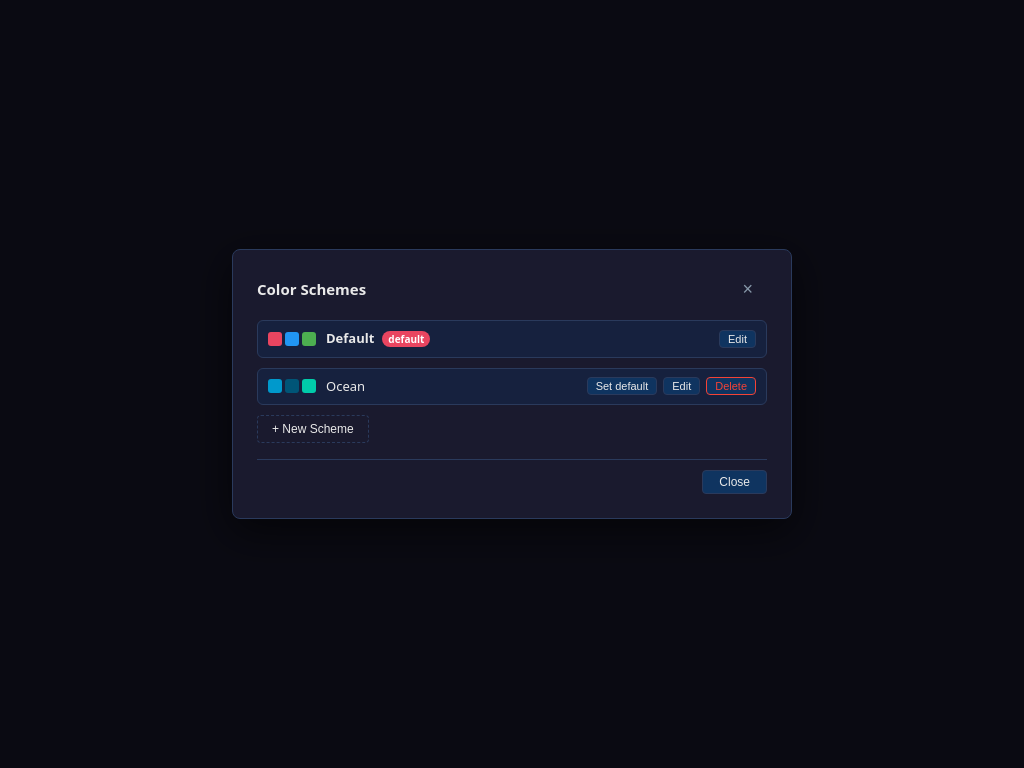
ColorSchemeManager › shows error banner when delete fails
expect the text "Ocean" is shown: met, box x1=326 y1=376 x2=365 y2=394
Click the button "Delete" at (731, 386), box x1=706 y1=377 x2=756 y2=395
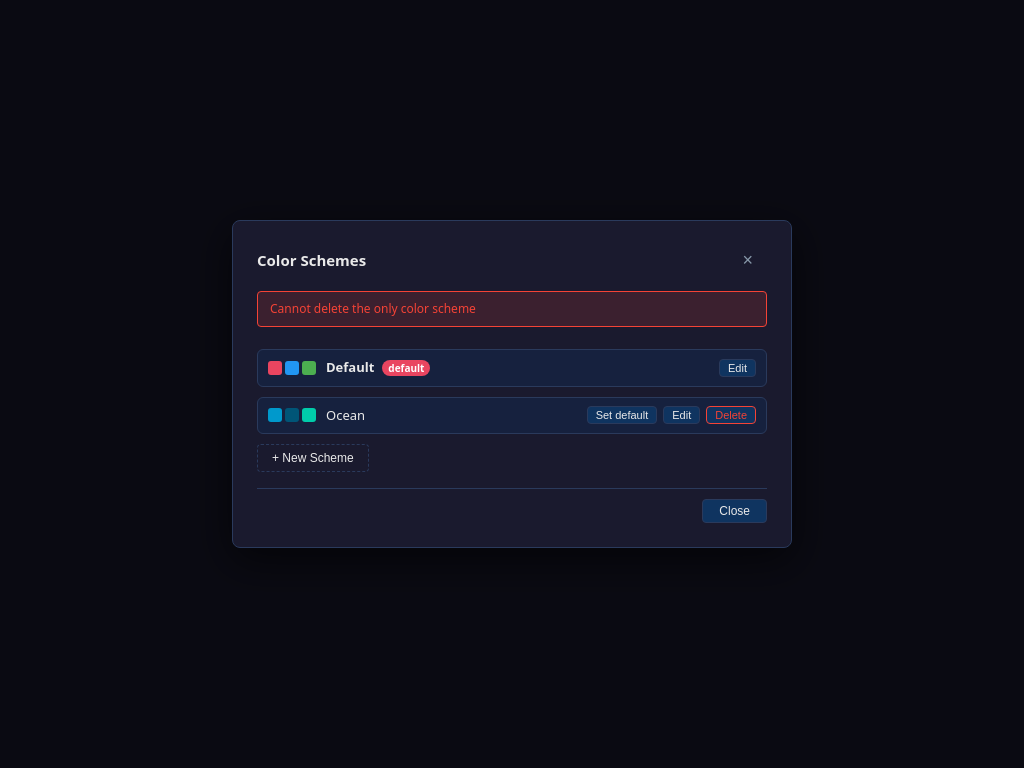
expect the text "Cannot delete the only color scheme" is shown: met, box x1=257 y1=291 x2=767 y2=327
